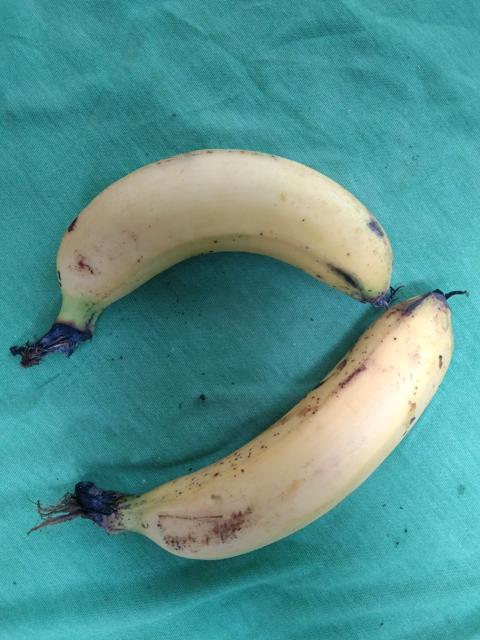freshripe: (43, 133, 395, 340)
ripe: (115, 280, 459, 575)
